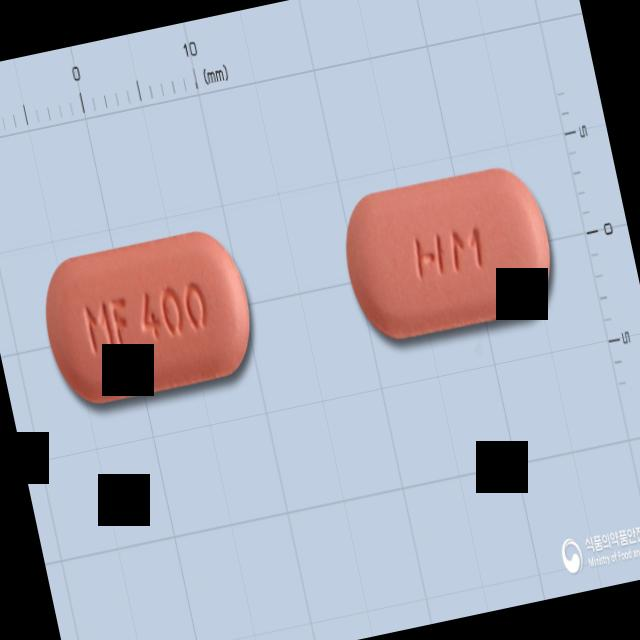Moroxacin: (32, 222, 262, 412), (333, 158, 563, 346)
